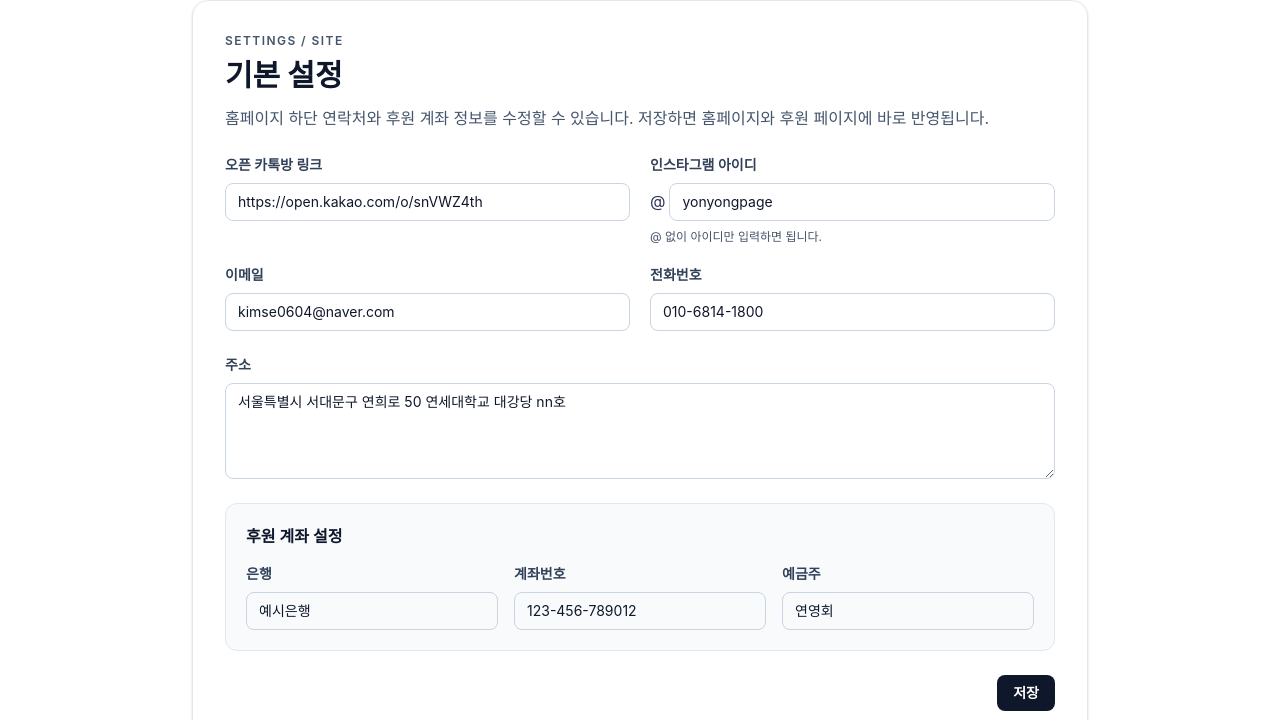
it: SiteSettingsForm › shows email validation error and blocks submit when email format is invalid
The width and height of the screenshot is (1280, 720).
Step 1. Replace the text in the field labelled "이메일" with "invalid-email" → {"x": 428, "y": 312}, box left=225, top=293, right=630, bottom=331
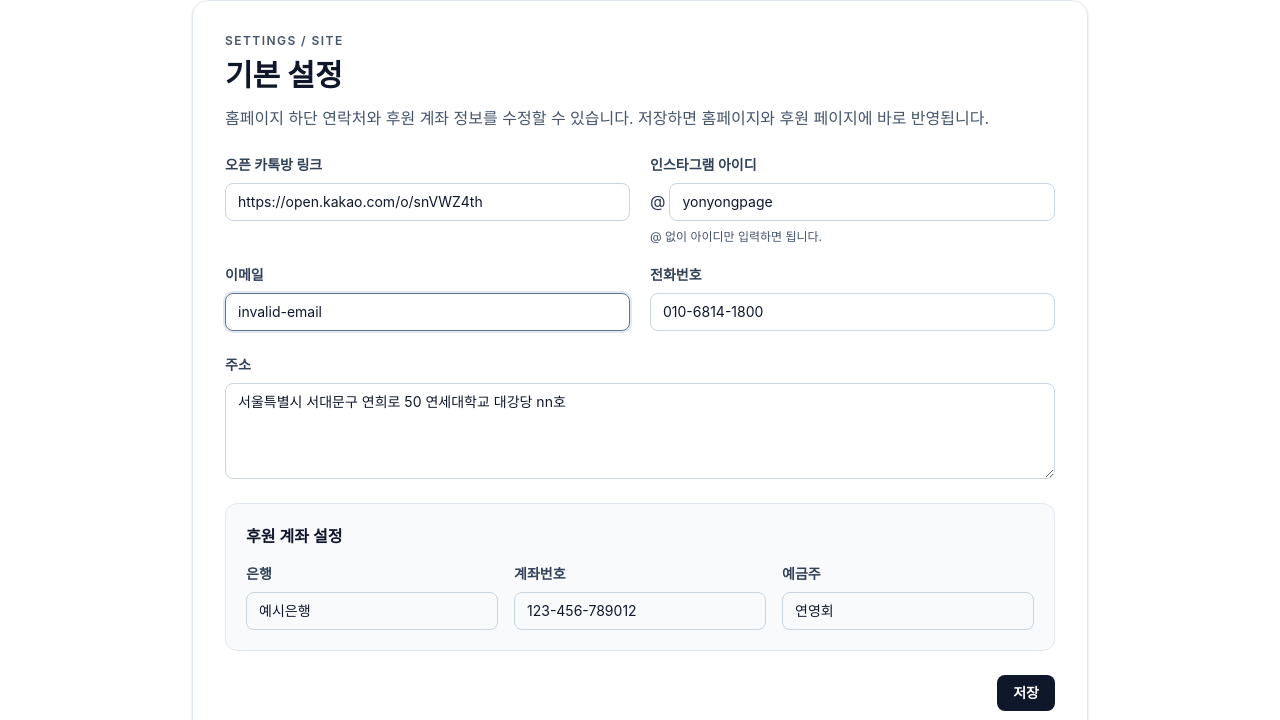
Step 2. Click the button with test id "site-settings-submit" → {"x": 1026, "y": 693}, box left=997, top=675, right=1055, bottom=711
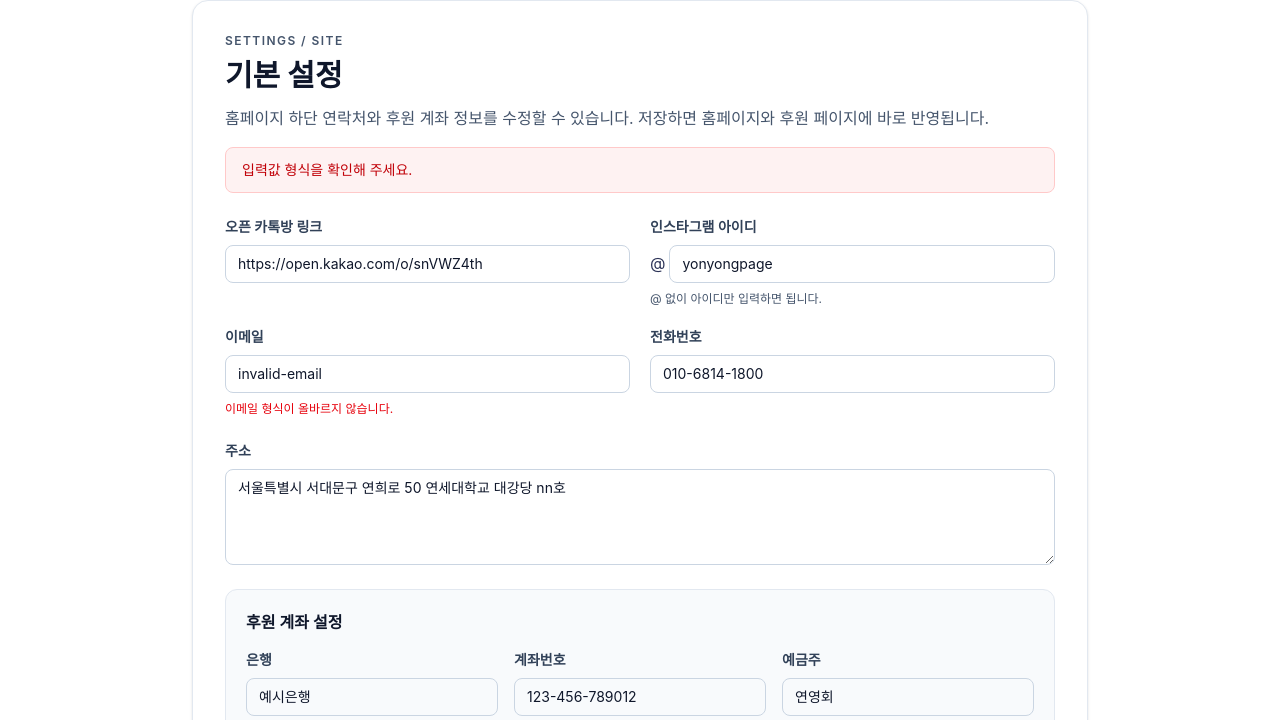
Expected: the text "이메일 형식이 올바르지 않습니다." is shown, left=225, top=401, right=393, bottom=416
